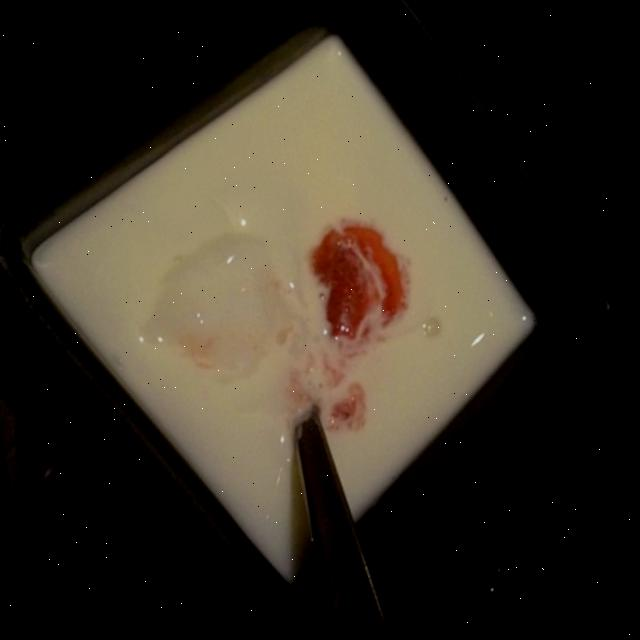面条主食: (227, 0, 618, 248)
